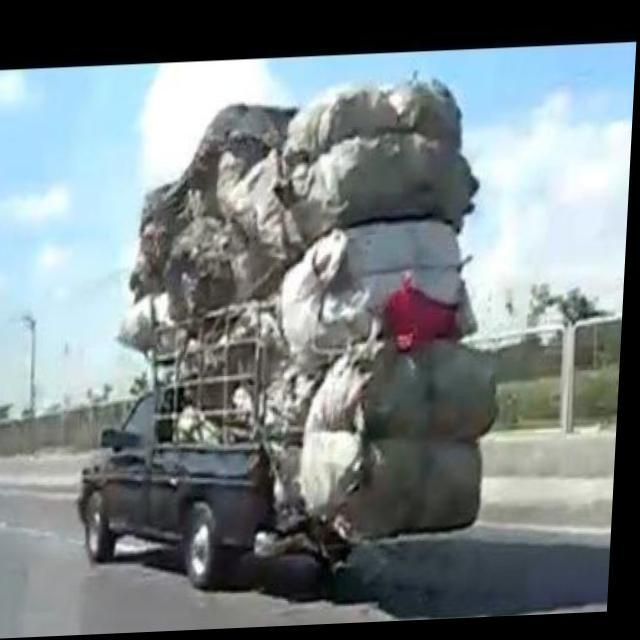uncovered: (116, 59, 519, 590)
